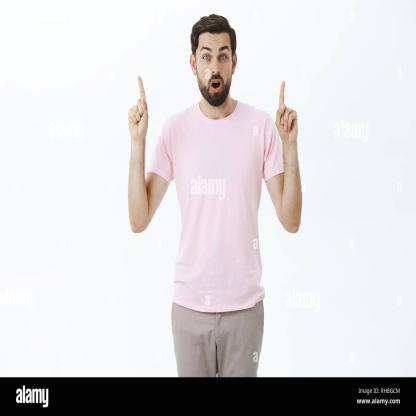Up: (273, 65, 303, 160), (121, 68, 157, 144)
